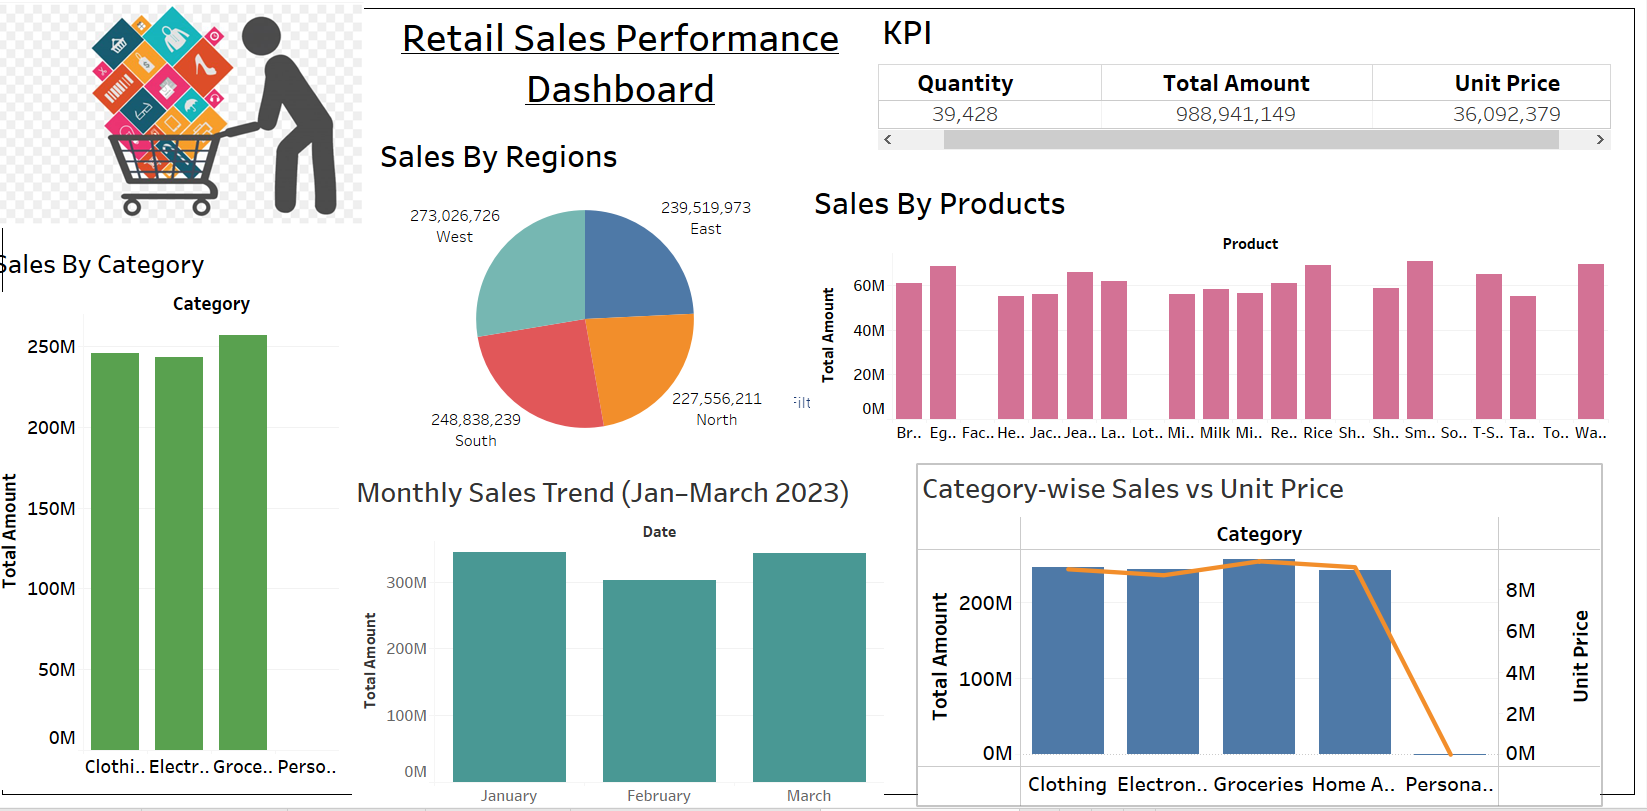

Layout of this report page (visuals, bound fields, positions):
{"tool":"tableau","page":{"name":"Retail Sales Dashboard","canvas":[1000,1000],"units":"permille","ordinal":0},"visuals":[{"type":"image","param":"C:/Users/Lenovo/Pictures/retail imag.png","box":[3.6,7.4,222.1,295.9]},{"type":"dashboard-object","param":"[com.tableau.addfilters].[0.0.0].[https://extensions.tableauusercontent.com/sand","box":[4.8,9.9,990.3,980.3]},{"type":"worksheet","title":"KPI","mark":"Automatic","box":[535.9,9.9,442.4,187.4]},{"type":"text","box":[229.9,18.5,301.2,125.8]},{"type":"worksheet","title":"Sales By Regions","mark":"Pie","box":[233,165.2,252.3,397]},{"type":"worksheet","title":"Sales By Products","mark":"Automatic","rows":["total_amount"],"cols":["product"],"box":[494.9,223.2,482.2,342.8]},{"type":"worksheet","title":"Category-wise Sales vs Unit Price","mark":"Automatic","rows":["total_amount","unit_price"],"cols":["category"],"box":[560.1,578.3,412.2,421.7]},{"type":"worksheet","title":"Monthly Sales Trend (Jan–March 2023)","mark":"Bar","rows":["total_amount"],"cols":["date"],"box":[218.5,583.2,321.1,416.8]}]}

Visuals, with their boxes on the dashboard's canvas, which has no fixed pixel size, in thousandths of its width and height (x1, y1, x2, y2). These are canvas units, not pixel positions in the 1647x811 screenshot, which may show the page scaled, cropped or inside an application window:
image: <region>4, 7, 226, 303</region>
dashboard-object: <region>5, 10, 995, 990</region>
"KPI" worksheet: <region>536, 10, 978, 197</region>
text: <region>230, 18, 531, 144</region>
"Sales By Regions" worksheet (Pie marks): <region>233, 165, 485, 562</region>
"Sales By Products" worksheet: <region>495, 223, 977, 566</region>
"Category-wise Sales vs Unit Price" worksheet: <region>560, 578, 972, 1000</region>
"Monthly Sales Trend (Jan–March 2023)" worksheet (Bar marks): <region>218, 583, 540, 1000</region>
